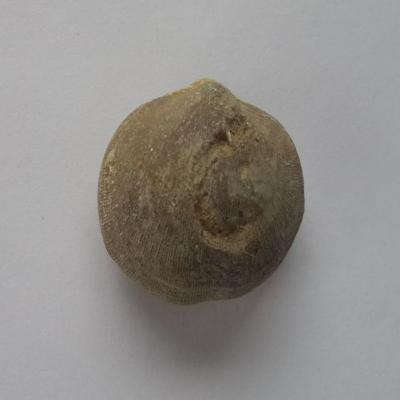natural_science_collection: (96, 78, 306, 308)
